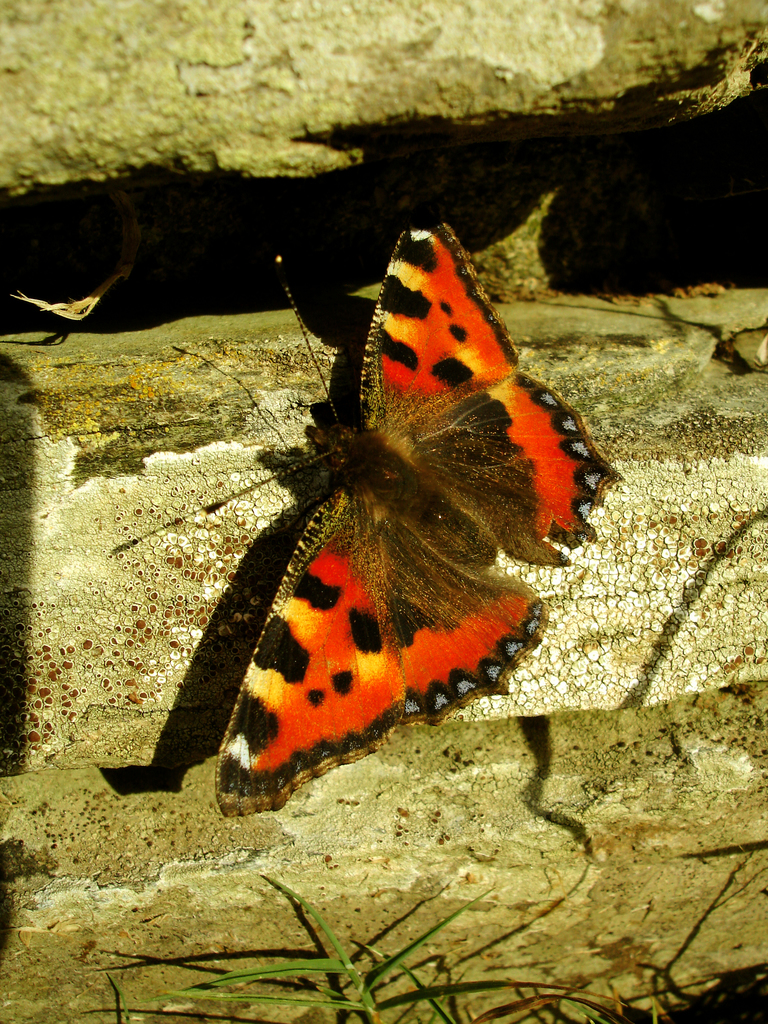Butterfly: (187, 199, 632, 792)
